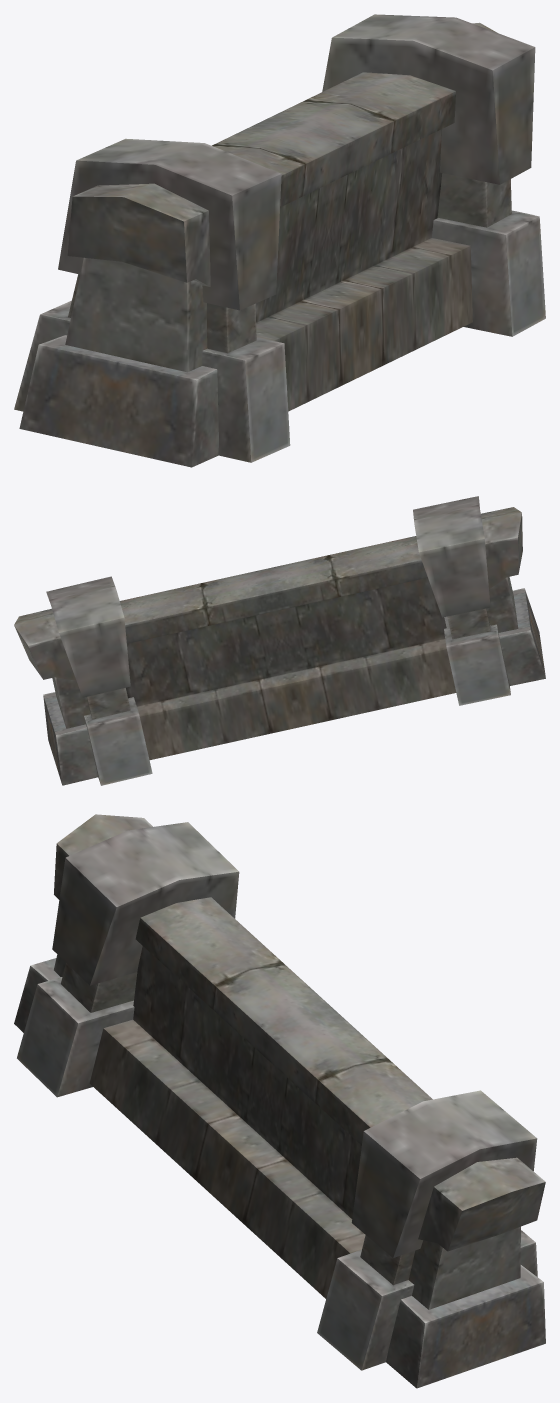
File: Tower_B_1.fbx
The picture shows the model from 3 angles, top to bottom: view 1: azimuth 30°, elevation 25°; view 2: azimuth 150°, elevation 25°; view 3: azimuth 270°, elevation 25°; orthographic projection. The views are drawn at different scales.
Visible parts, largest first — view 1: Tower_B_1__3_; view 2: Tower_B_1__3_; view 3: Tower_B_1__3_.
Boxes of the visible parts, x1,y1,x2,y2 form: Tower_B_1__3_: (14, 14, 545, 467); Tower_B_1__3_: (14, 496, 545, 785); Tower_B_1__3_: (14, 814, 545, 1388).
Bounding box in the file's own units: 0.9005 × 0.487 × 0.708.
1 material, 1 textured.
